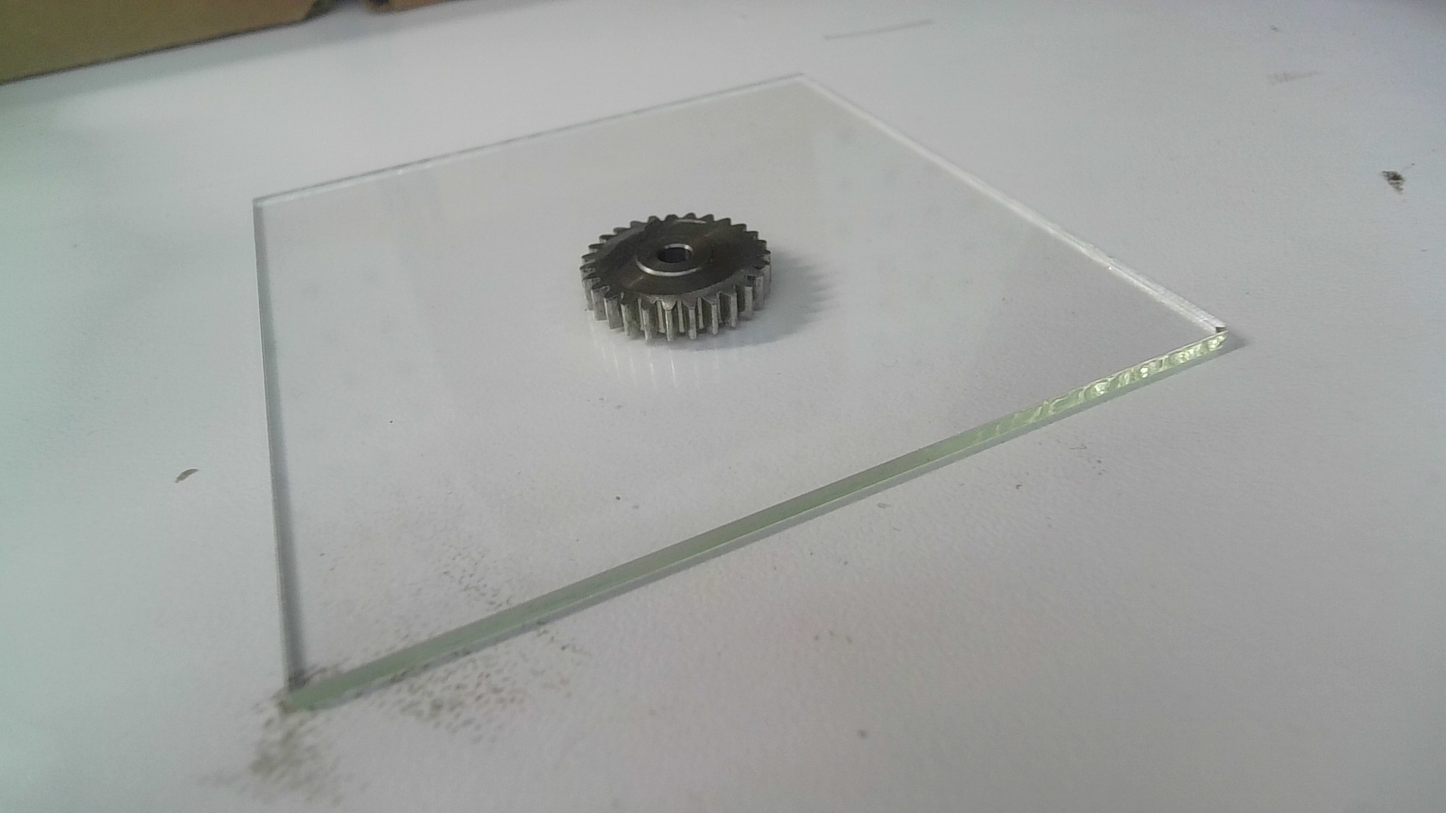gear: (574, 212, 775, 343)
